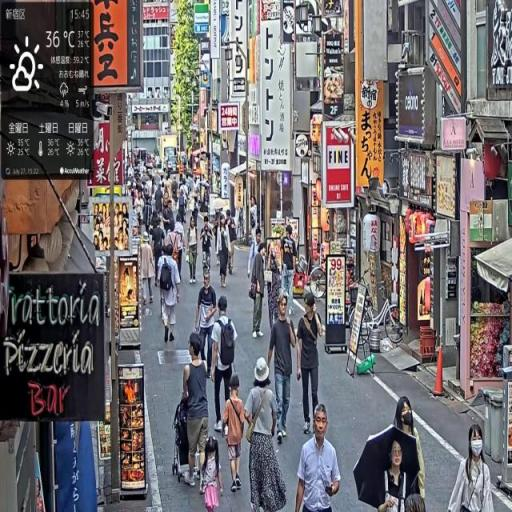person: (353, 397, 428, 512), (243, 356, 289, 512), (295, 402, 342, 512), (178, 333, 210, 491), (268, 296, 300, 449), (297, 289, 325, 438), (448, 422, 493, 512), (211, 294, 238, 437), (220, 372, 248, 496), (196, 270, 219, 382), (159, 239, 182, 348), (200, 434, 224, 512), (140, 233, 156, 313), (187, 215, 201, 285), (152, 218, 166, 287), (218, 217, 231, 291), (201, 215, 214, 277), (227, 214, 238, 272)
